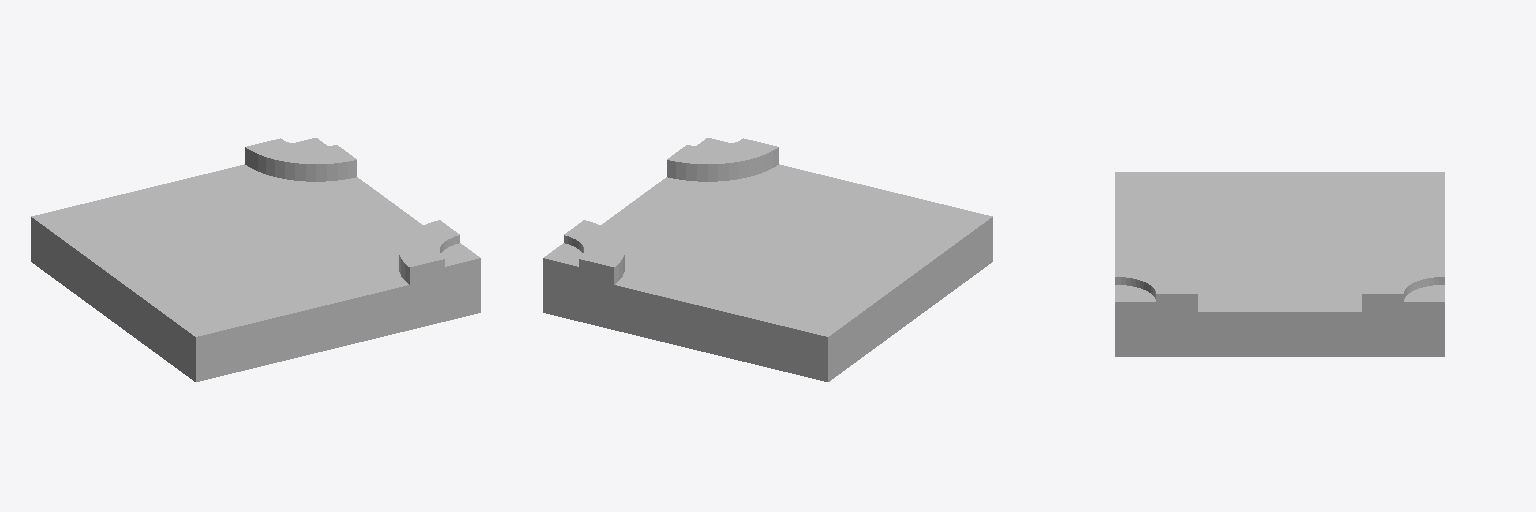
Rendered from tile138.obj.
The picture shows the model from 3 angles: view 1: azimuth 30°, elevation 25°; view 2: azimuth 150°, elevation 25°; view 3: azimuth 270°, elevation 25°; orthographic projection.
Parts seen in each view (by area): view 1: tile138; view 2: tile138; view 3: tile138.
Part boxes in pixels (x1,y1,x2,y2): tile138: (31, 138, 480, 381); tile138: (543, 138, 992, 381); tile138: (1115, 172, 1444, 356).
Bounding box in the file's own units: 1 × 0.21 × 1.